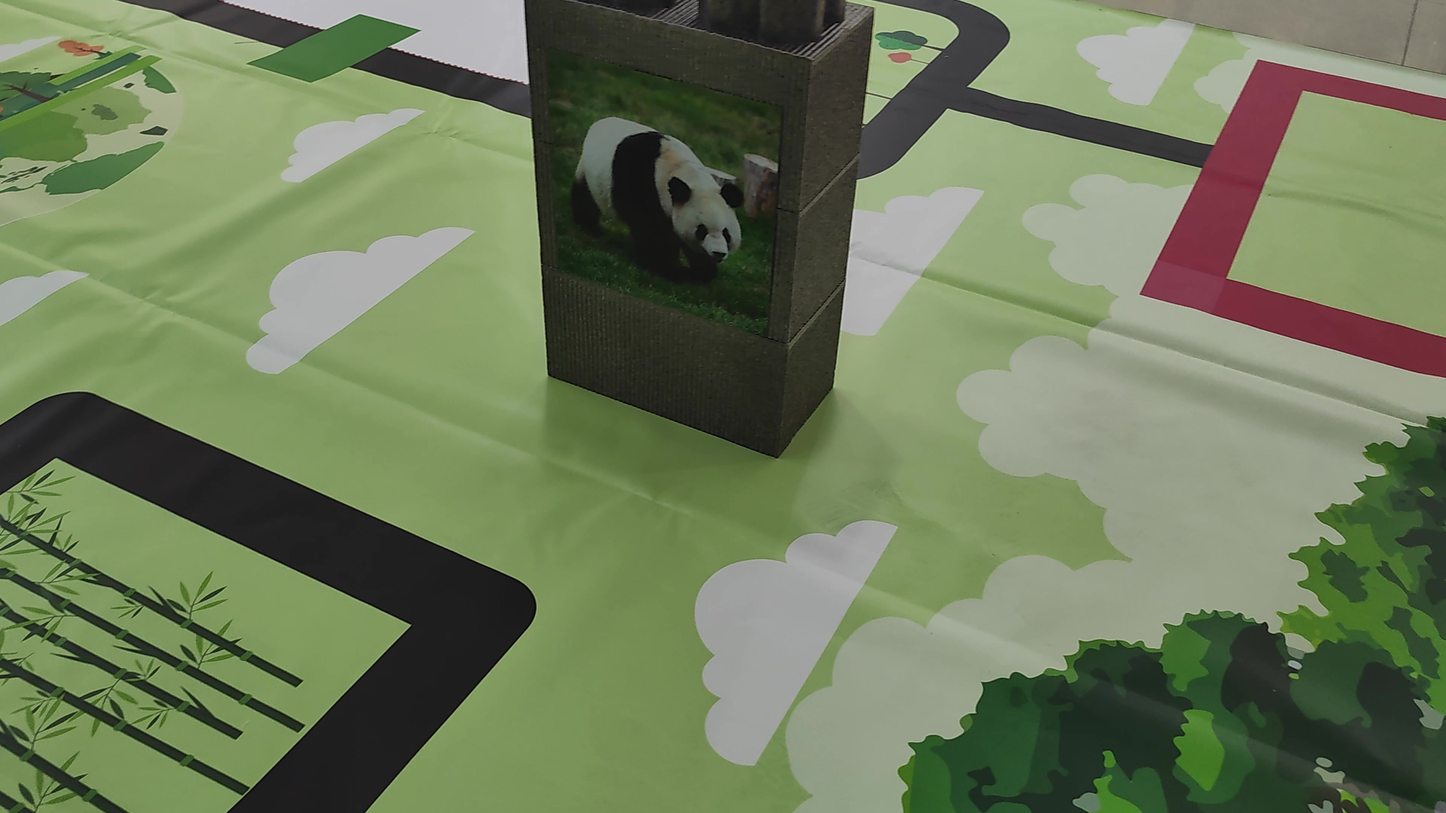panda: (539, 68, 779, 308)
